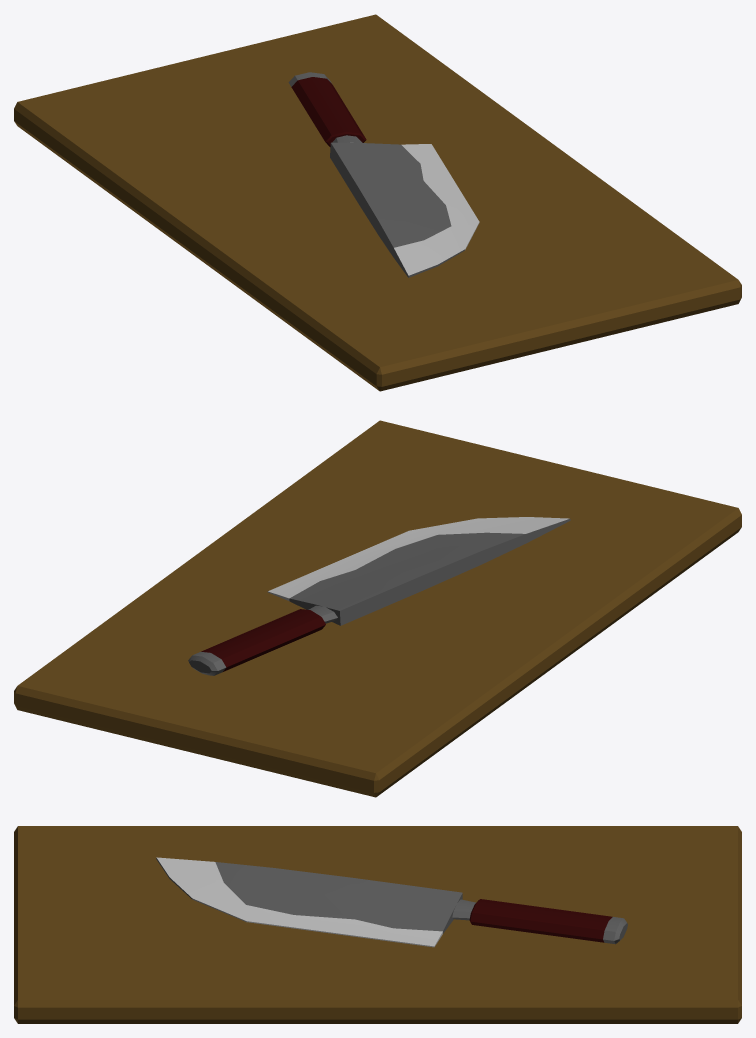
File: cutting_knife.fbx
3 views of the same model, one above another, from view 1: azimuth 30°, elevation 25°; view 2: azimuth 150°, elevation 25°; view 3: azimuth 270°, elevation 25° (orthographic).
Parts seen in each view (by area): view 1: pCube98, knife; view 2: pCube98, knife; view 3: pCube98, knife.
Boxes of the visible parts, bbox=[...] form: pCube98: bbox=[14, 14, 741, 391]; knife: bbox=[288, 72, 479, 277]; pCube98: bbox=[14, 420, 741, 797]; knife: bbox=[188, 517, 570, 675]; pCube98: bbox=[14, 826, 741, 1023]; knife: bbox=[156, 857, 627, 947].
Size of the model in its own units: 286 by 33.3 by 497.
